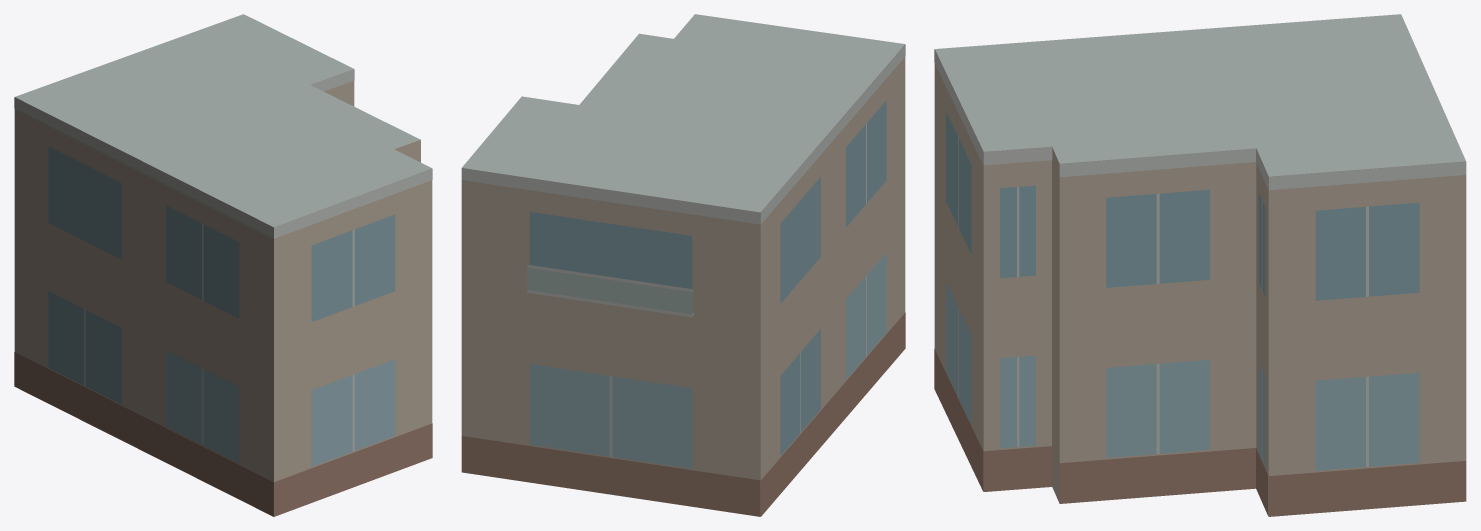
Rendered from survey-upis-32908589.glb.
3 renders of one model, left to right at view 1: azimuth 30°, elevation 25°; view 2: azimuth 150°, elevation 25°; view 3: azimuth 270°, elevation 25°, orthographic. The views are drawn at different scales.
Visible parts, largest first — view 1: survey-upis-32908589.tmp; view 2: survey-upis-32908589.tmp; view 3: survey-upis-32908589.tmp.
Boxes of the visible parts, left/top/right/bottom form: survey-upis-32908589.tmp: left=14, top=14, right=432, bottom=516; survey-upis-32908589.tmp: left=461, top=14, right=905, bottom=516; survey-upis-32908589.tmp: left=934, top=14, right=1466, bottom=516.
Bounding box in the file's own units: 6.27 × 6.1 × 8.65.
